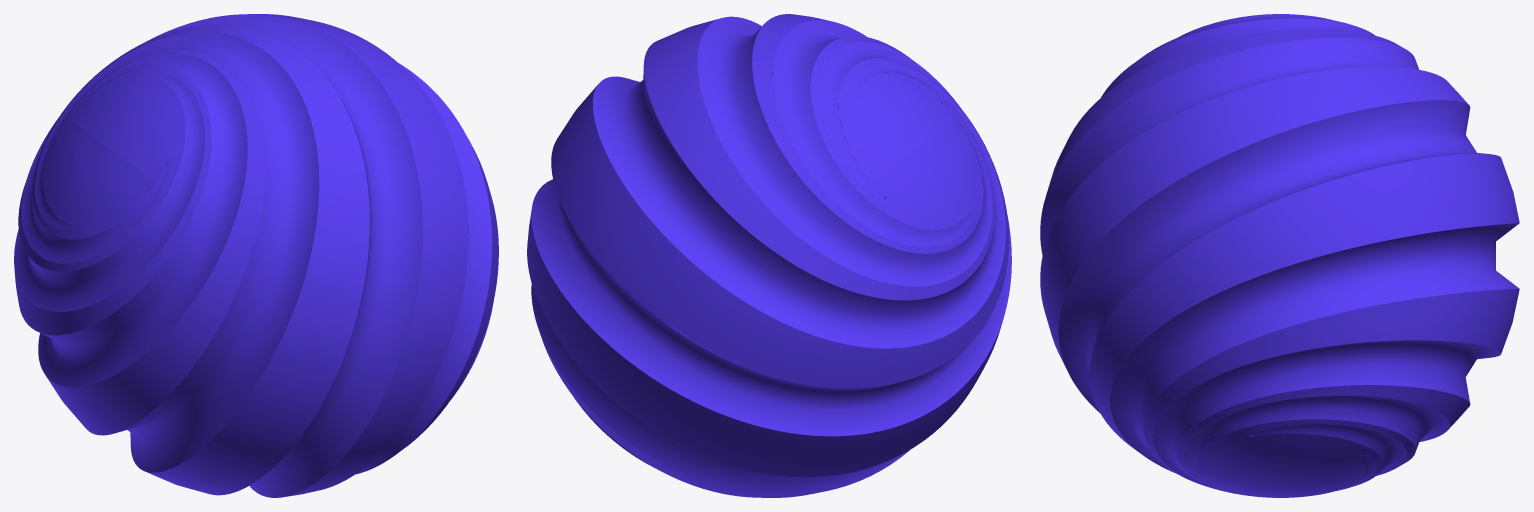
3 renders of one model, left to right at view 1: azimuth 30°, elevation 25°; view 2: azimuth 150°, elevation 25°; view 3: azimuth 270°, elevation 25°, orthographic.
Visible parts, largest first — view 1: object_004_Retopo; view 2: object_004_Retopo; view 3: object_004_Retopo.
Part boxes in pixels (<box>): object_004_Retopo: <box>14,14,498,497</box>; object_004_Retopo: <box>527,14,1011,497</box>; object_004_Retopo: <box>1040,14,1519,497</box>.
Bounding box in the file's own units: 2.54 × 2.54 × 2.52.
